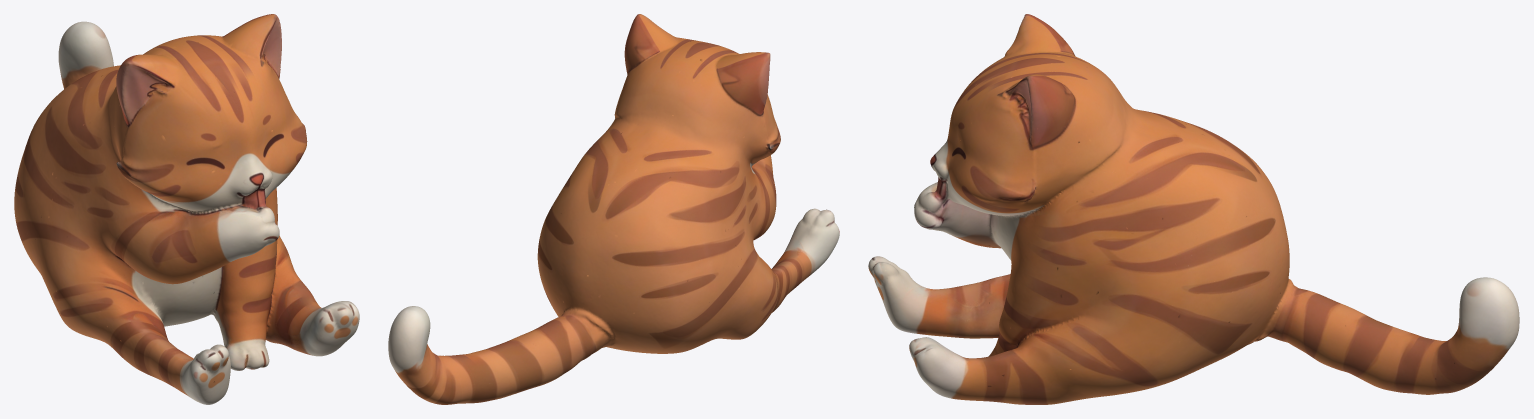
File: pet_cat_lick_1.glb
3 renders of one model, left to right at view 1: azimuth 30°, elevation 25°; view 2: azimuth 150°, elevation 25°; view 3: azimuth 270°, elevation 25°, orthographic. The views are drawn at different scales.
Visible parts, largest first — view 1: Mesh_0.026; view 2: Mesh_0.026; view 3: Mesh_0.026.
Boxes of the visible parts, x1,y1,x2,y2 form: Mesh_0.026: [14, 14, 359, 404]; Mesh_0.026: [388, 14, 839, 404]; Mesh_0.026: [868, 14, 1519, 404].
Bounding box in the file's own units: 0.7634 × 0.9842 × 1.76.
Materials: 1 (1 with a texture image).
